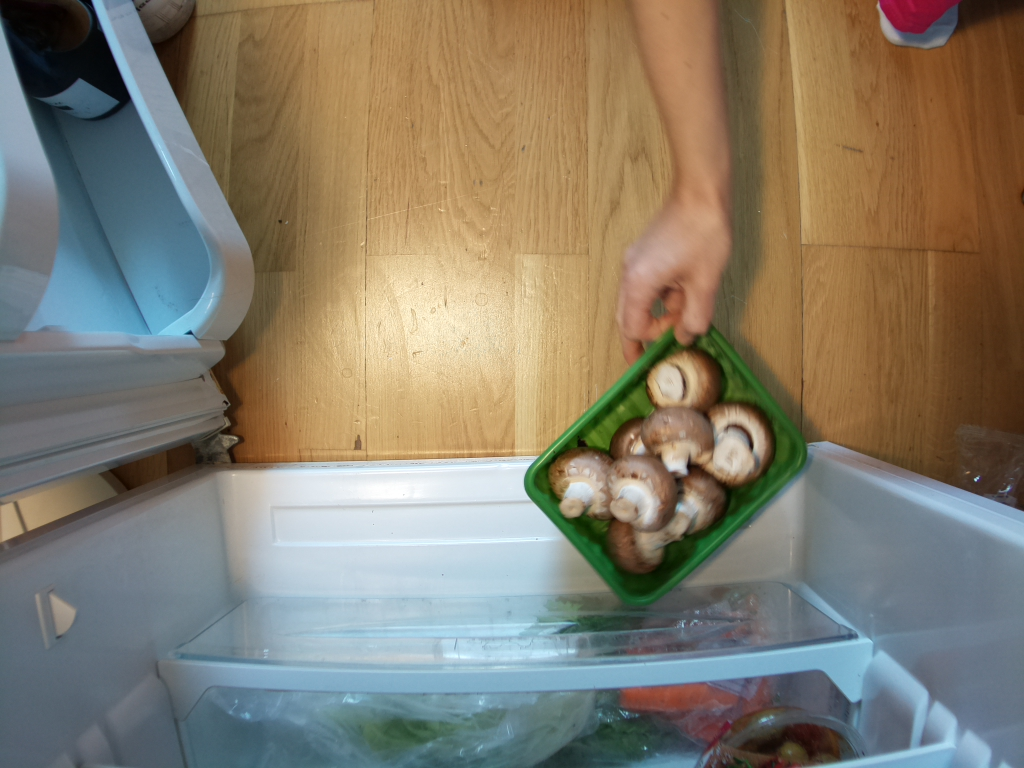mushrooms: (522, 318, 818, 611)
